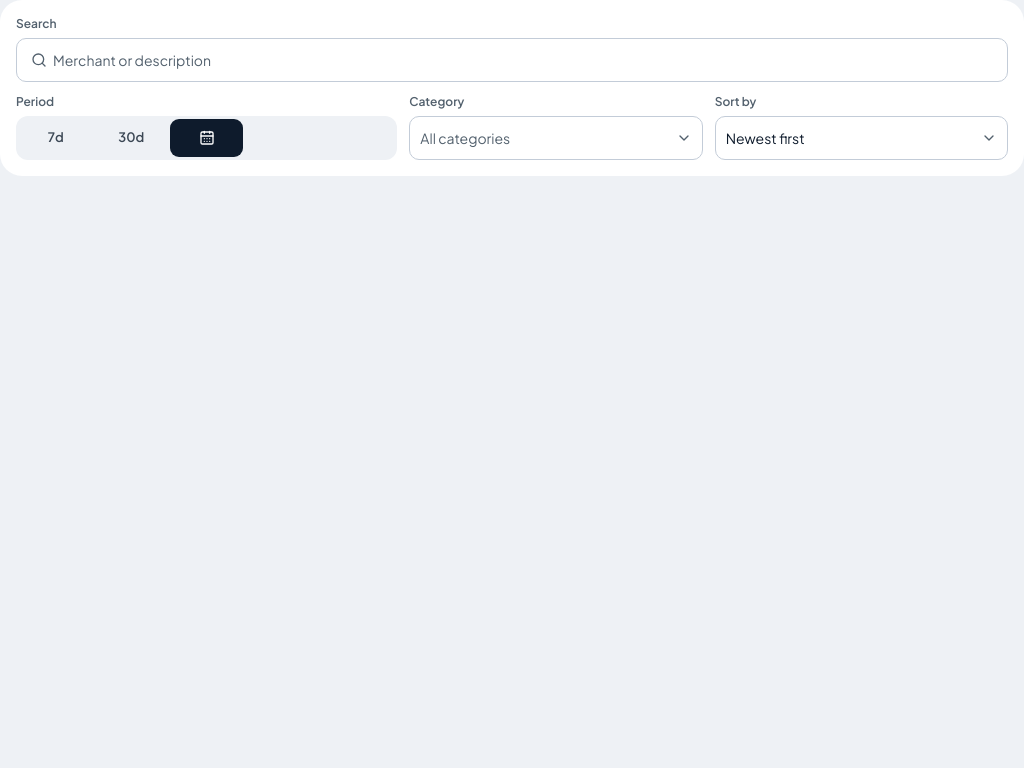
Test: TransactionFiltersPanel › uses the current custom dates when reopened after navigation
Click the button named "Custom range".
click(207, 138)  # box [170,119,243,157]
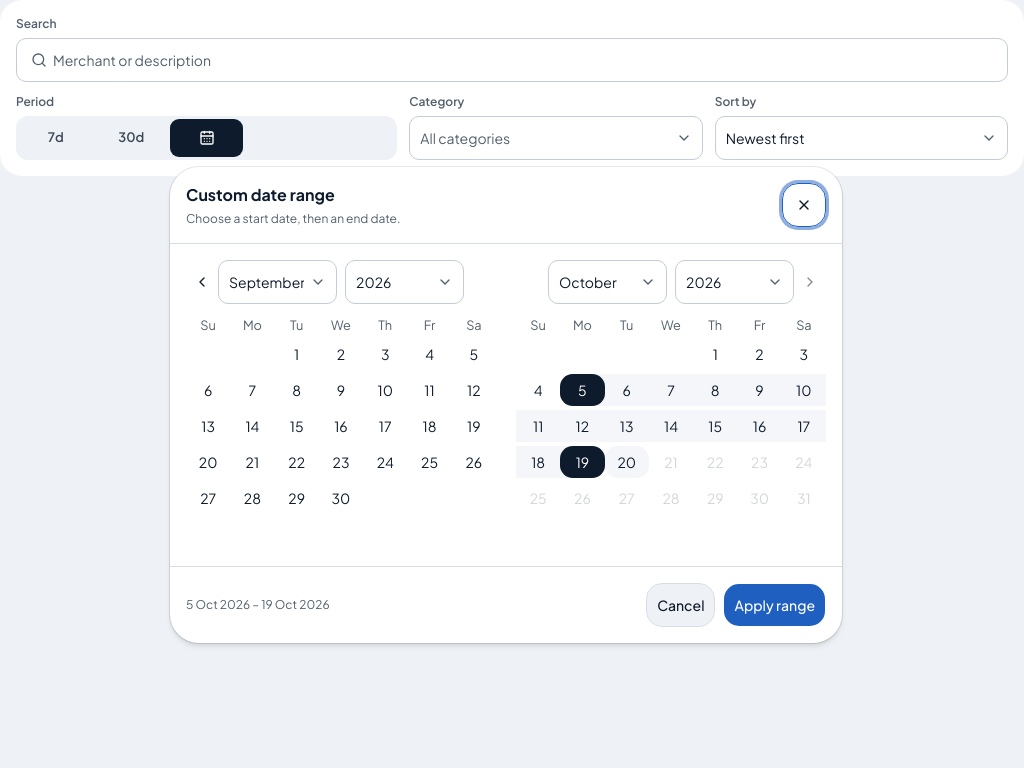
Result: the message named "Selected date range" reads "5 Oct 2026 – 19 Oct 2026" at [186,597,330,613]
